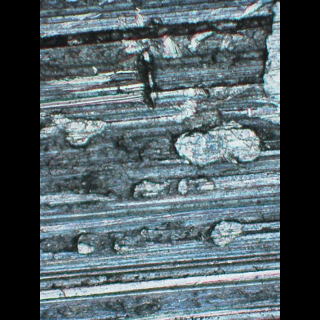d: (171, 118, 267, 168), (73, 222, 204, 258), (48, 110, 110, 147), (208, 219, 246, 250), (171, 174, 217, 199), (132, 174, 169, 202)
